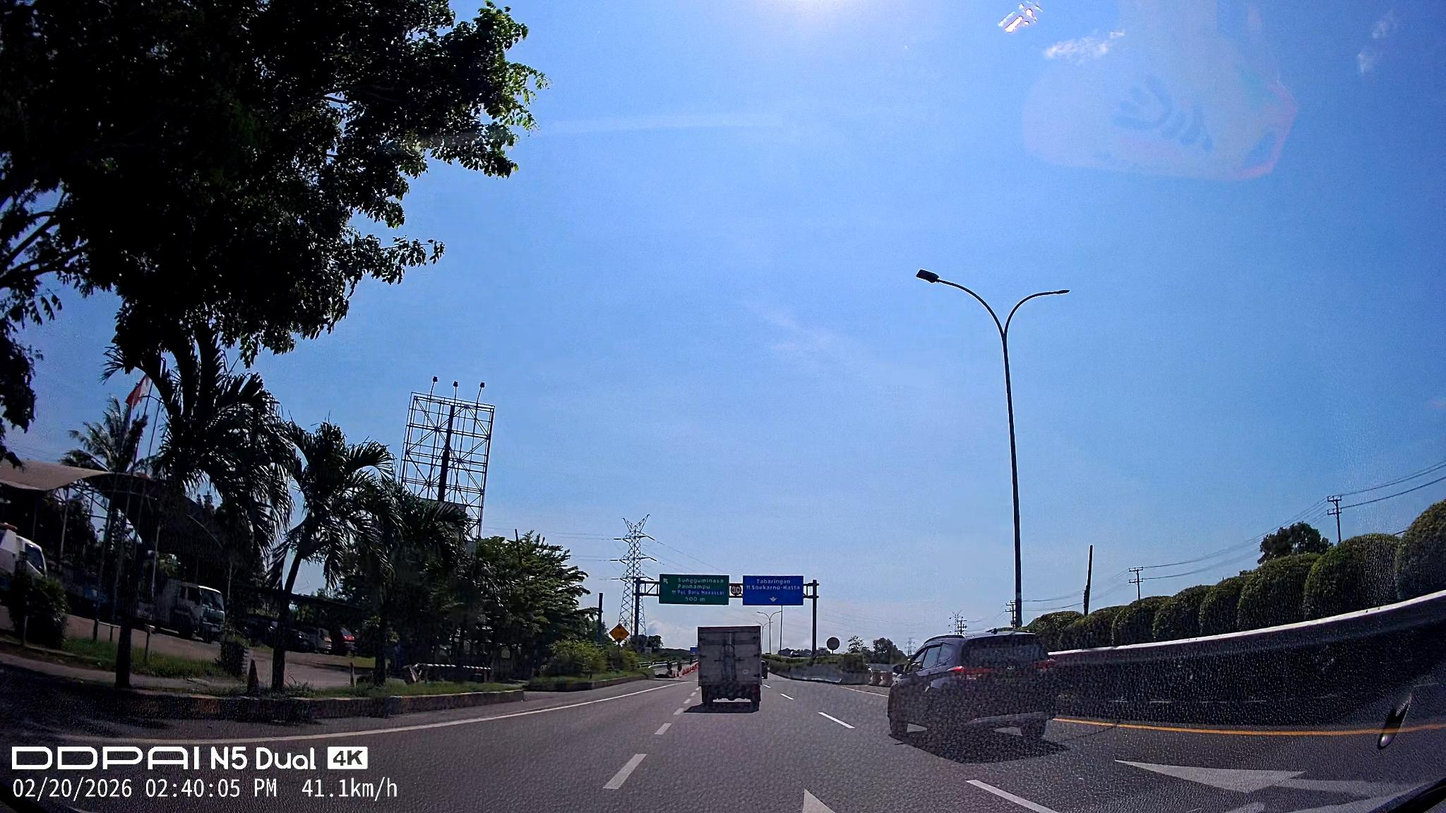rambu_teks: (659, 574, 730, 605), (742, 574, 805, 607)
